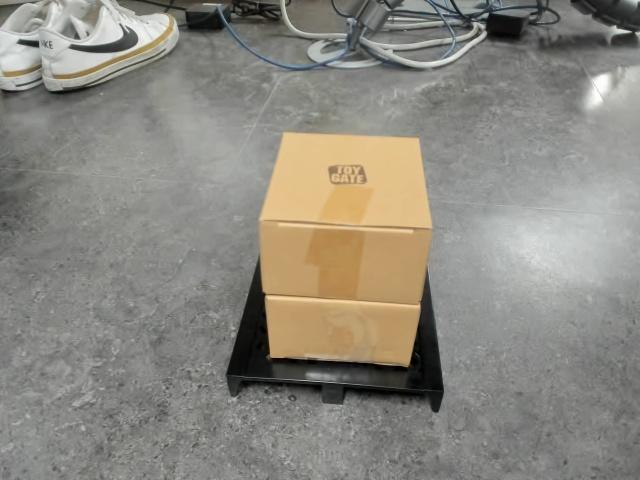box: (226, 130, 447, 413)
